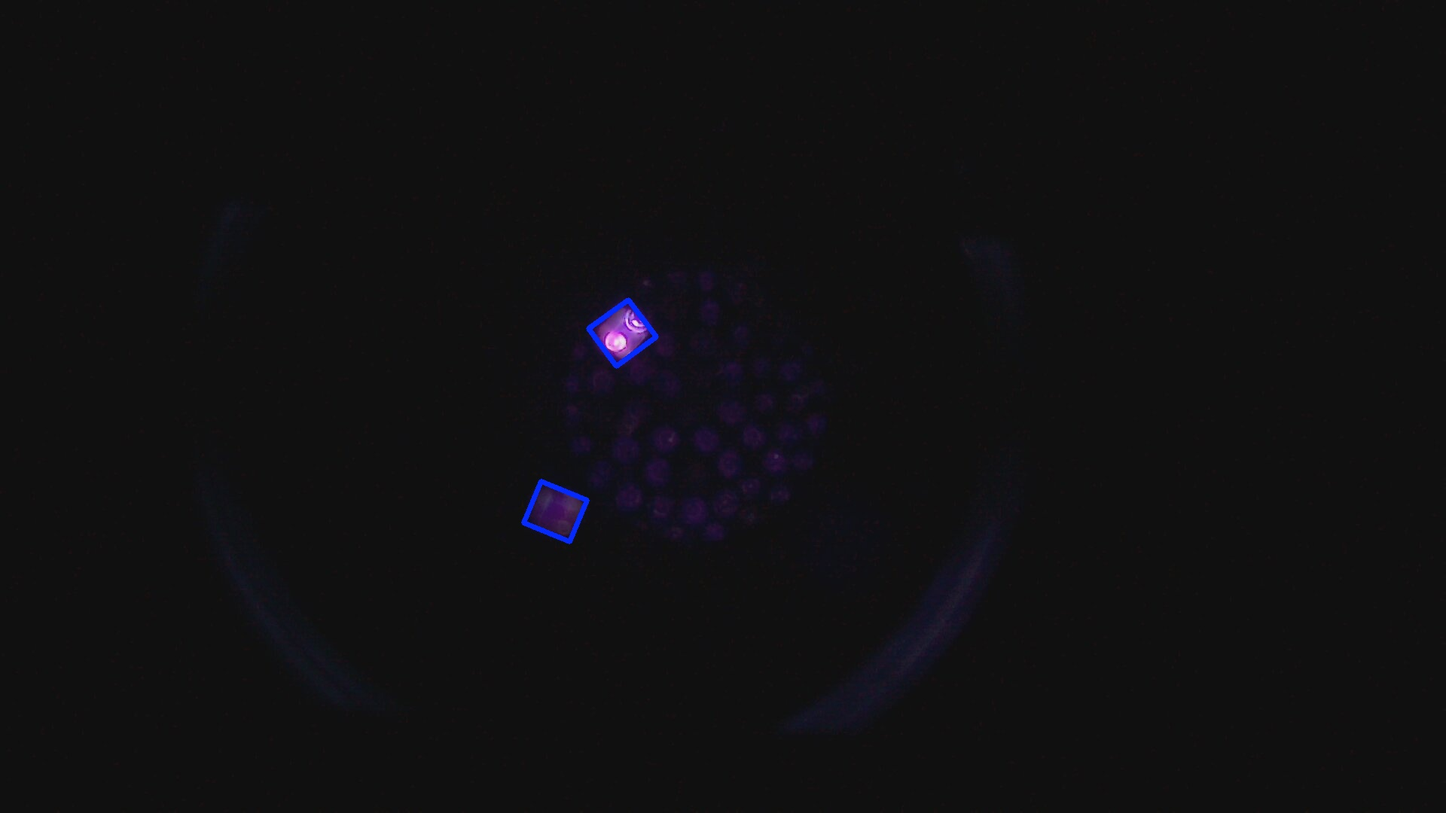plastic: (588, 298, 657, 367), (523, 484, 586, 541)
